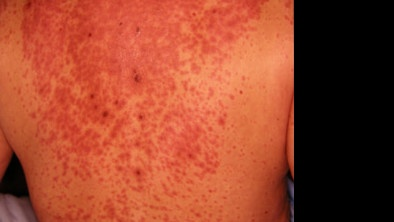SJS-TEN: (11, 0, 273, 222)
